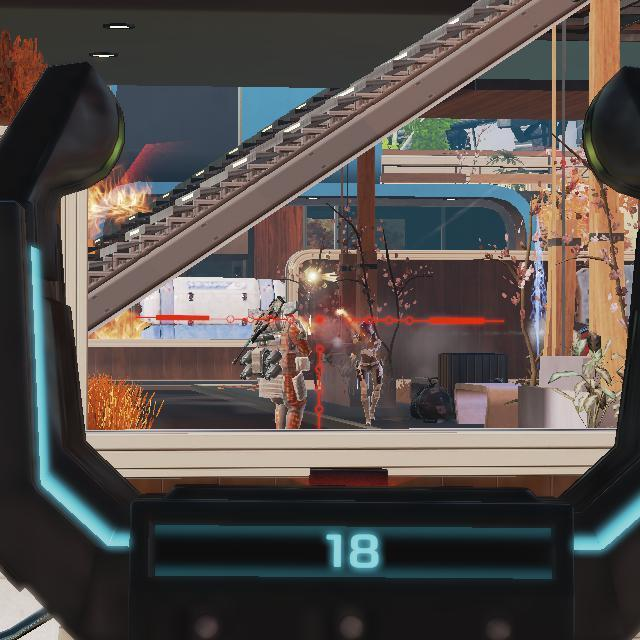avatar: (250, 295, 313, 430), (349, 320, 386, 427)
